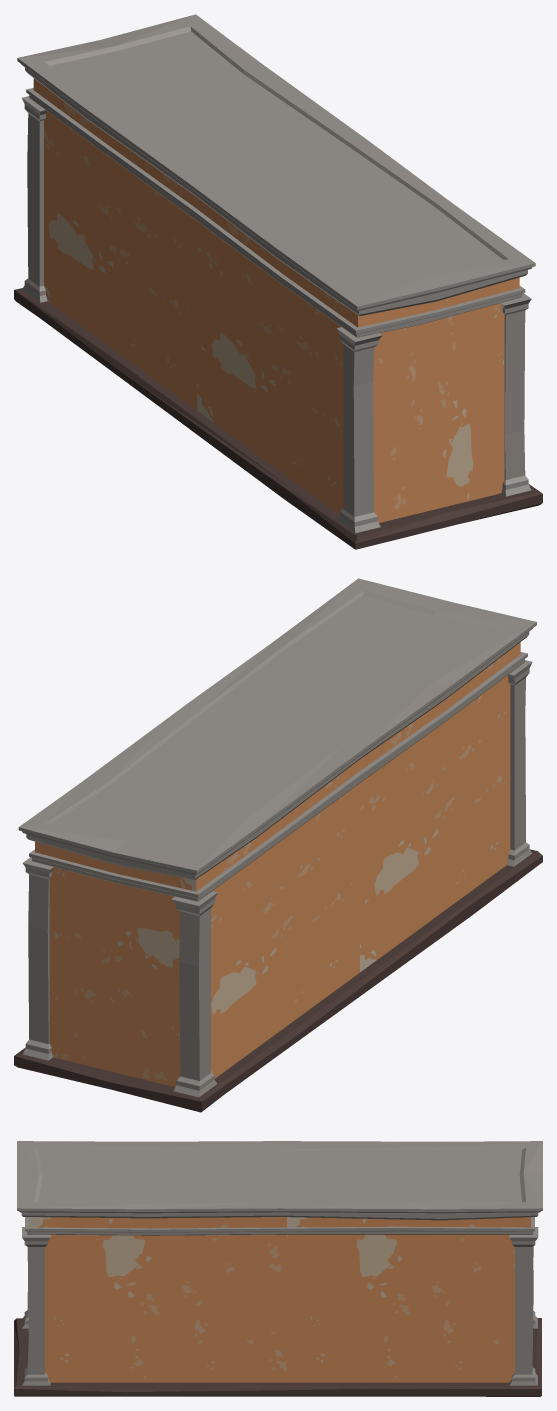
File: SM_Bld_Cuba_Hall_Room_02.glb
3 renders of one model, top to bottom at view 1: azimuth 30°, elevation 25°; view 2: azimuth 150°, elevation 25°; view 3: azimuth 270°, elevation 25°, orthographic. The views are drawn at different scales.
Visible parts, largest first — view 1: SM_Bld_Cuba_Hall_Room_02_part00; view 2: SM_Bld_Cuba_Hall_Room_02_part00; view 3: SM_Bld_Cuba_Hall_Room_02_part00.
Boxes of the visible parts, x1,y1,x2,y2 form: SM_Bld_Cuba_Hall_Room_02_part00: (14,14,542,549); SM_Bld_Cuba_Hall_Room_02_part00: (14,578,542,1112); SM_Bld_Cuba_Hall_Room_02_part00: (14,1141,542,1396).
Bounding box in the file's own units: 3.59 × 4.42 × 11.32.
1 material, 1 textured.
